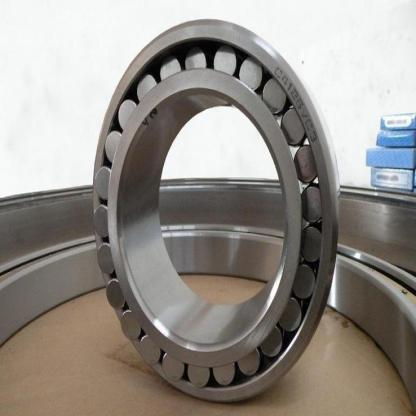FOD: (89, 13, 344, 407)
